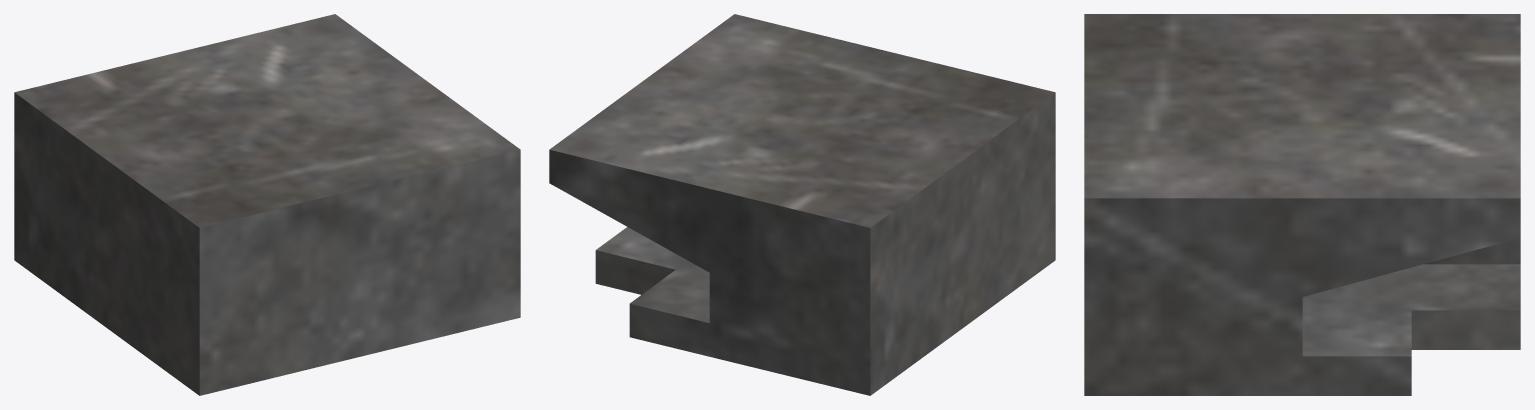
Rendered from ConsoleModuleCorner.fbx.
3 renders of one model, left to right at view 1: azimuth 30°, elevation 25°; view 2: azimuth 150°, elevation 25°; view 3: azimuth 270°, elevation 25°, orthographic. The views are drawn at different scales.
Parts seen in each view (by area): view 1: Console Module Corner; view 2: Console Module Corner; view 3: Console Module Corner.
Boxes of the visible parts, left/top/right/bottom form: Console Module Corner: left=14, top=14, right=520, bottom=395; Console Module Corner: left=549, top=14, right=1055, bottom=395; Console Module Corner: left=1084, top=14, right=1520, bottom=395.
Bounding box in the file's own units: 2.4 × 2.4 × 1.2.
1 material, 1 textured.
